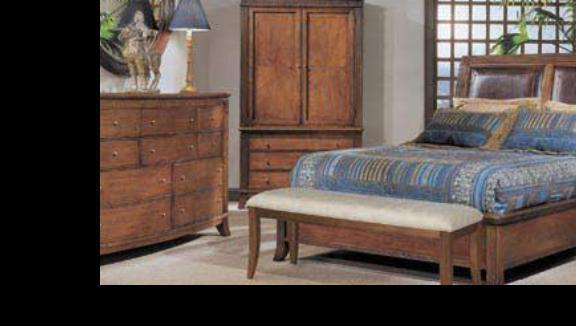Armario: (61, 98, 229, 247), (244, 0, 365, 143)
